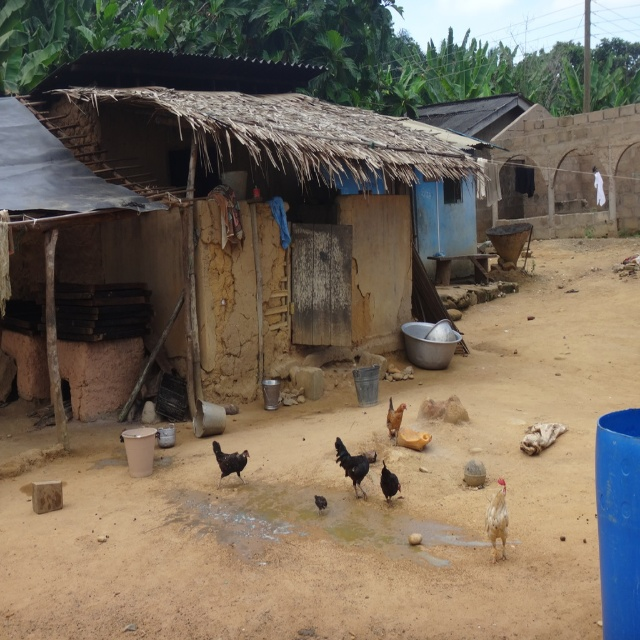Chicken: (485, 479, 509, 564), (337, 432, 367, 498), (213, 441, 251, 487), (385, 399, 406, 445), (381, 462, 401, 502)
